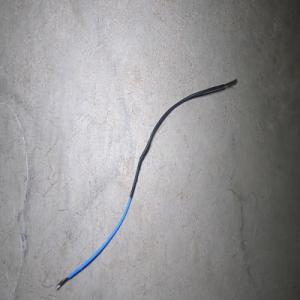Wire: (56, 77, 237, 289)
